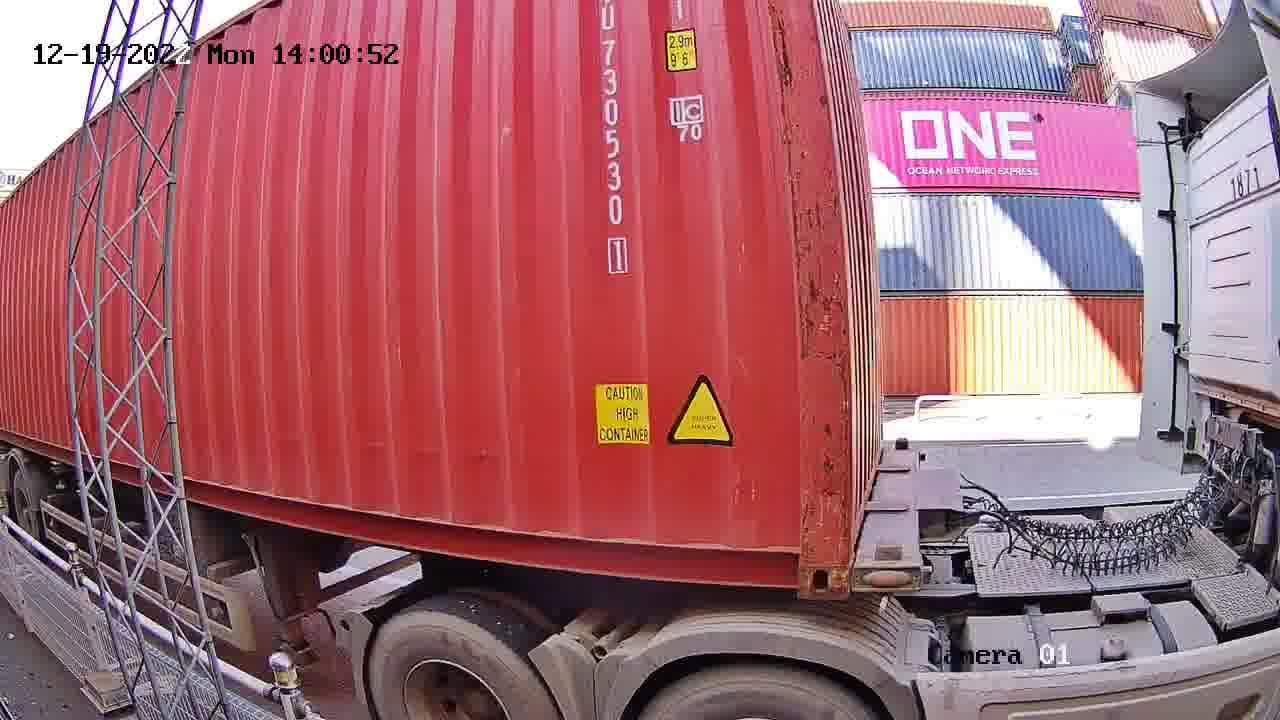Chassis: (853, 449, 921, 591)
Cone: (852, 565, 923, 603), (891, 436, 913, 456)
Hole_R: (757, 507, 851, 594)
Tire: (370, 612, 554, 718), (642, 664, 868, 717)
